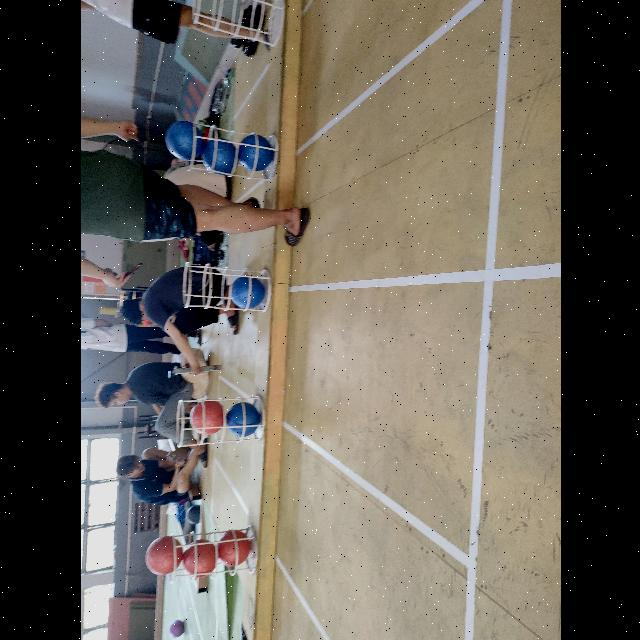B: (164, 118, 206, 162), (238, 132, 272, 174), (223, 402, 261, 438), (203, 134, 235, 174), (230, 275, 264, 311)
R: (144, 534, 183, 576), (216, 527, 252, 567), (188, 398, 224, 437), (182, 539, 214, 579)
